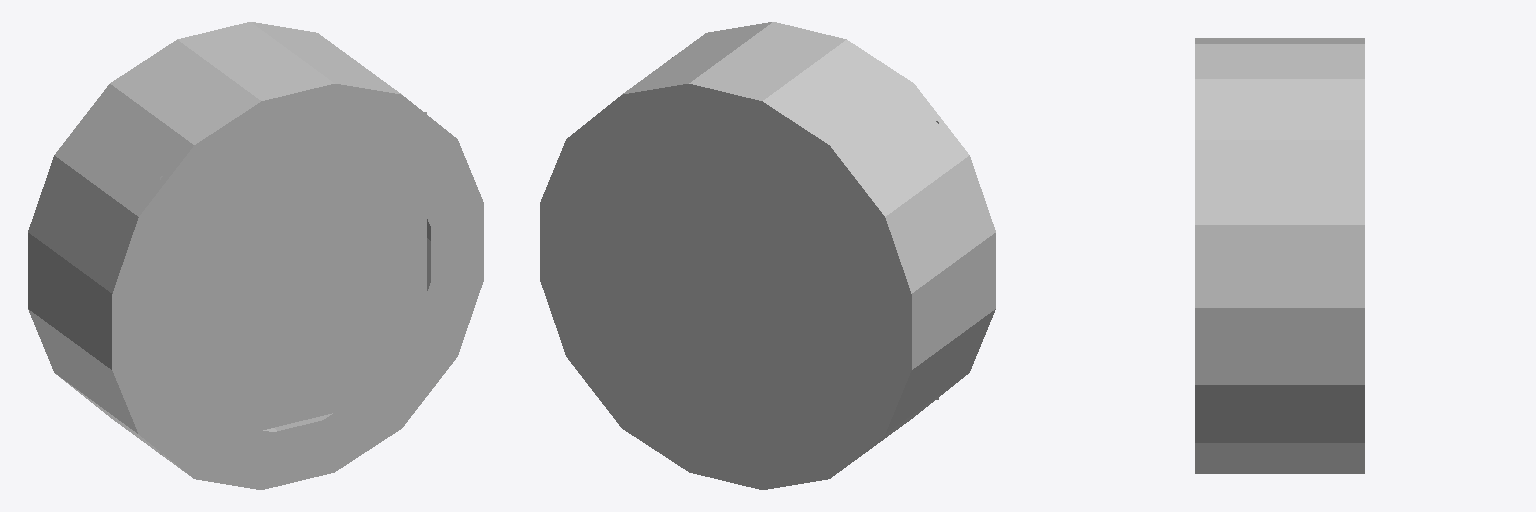
Rendered from ls400_wheel.obj.
The picture shows the model from 3 angles: view 1: azimuth 30°, elevation 25°; view 2: azimuth 150°, elevation 25°; view 3: azimuth 270°, elevation 25°; orthographic projection.
Visible parts, largest first — view 1: celsior.151; view 2: celsior.151; view 3: celsior.151.
Boxes of the visible parts, <box> form: celsior.151: <box>28,22,483,489</box>; celsior.151: <box>540,22,995,489</box>; celsior.151: <box>1195,38,1364,473</box>.
Size of the model in its own units: 1.03 by 1.03 by 0.4062.